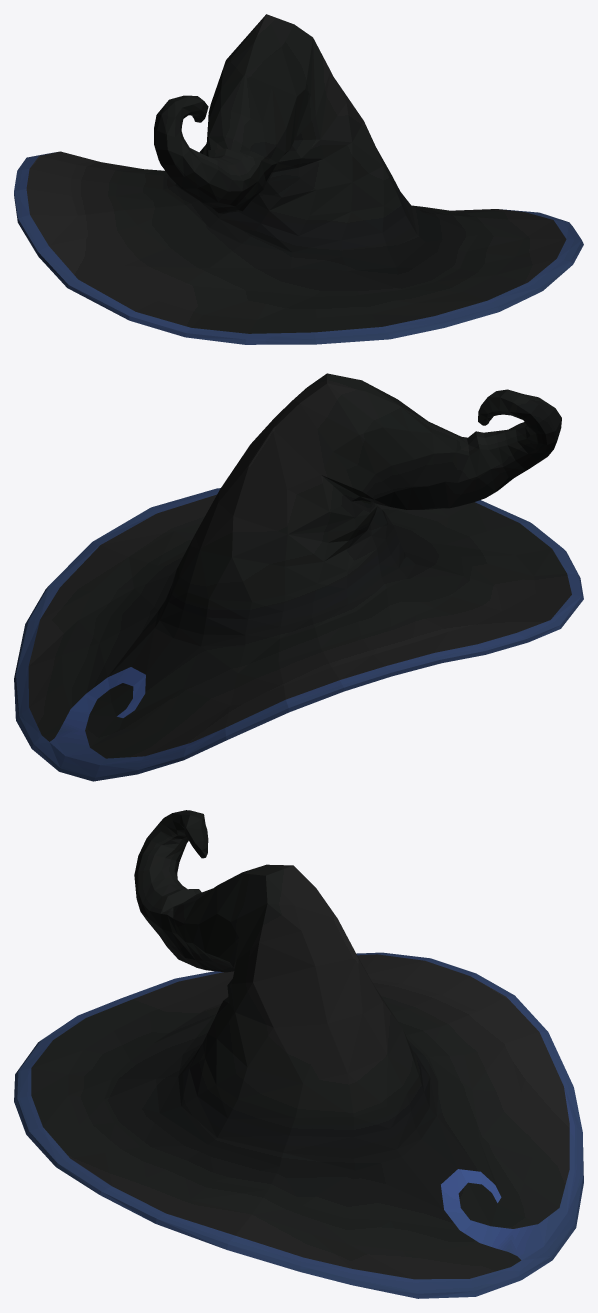
File: CharSkyKid_Hat_MischiefMagicHat.glb
3 renders of one model, top to bottom at view 1: azimuth 30°, elevation 25°; view 2: azimuth 150°, elevation 25°; view 3: azimuth 270°, elevation 25°, orthographic.
Visible parts, largest first — view 1: CharSkyKid_Hat_MischiefMagicHat; view 2: CharSkyKid_Hat_MischiefMagicHat; view 3: CharSkyKid_Hat_MischiefMagicHat.
Part boxes in pixels (<box>): CharSkyKid_Hat_MischiefMagicHat: <box>14,14,583,344</box>; CharSkyKid_Hat_MischiefMagicHat: <box>14,373,583,781</box>; CharSkyKid_Hat_MischiefMagicHat: <box>14,810,583,1298</box>.
Bounding box in the file's own units: 8.28 × 5.24 × 8.28.
Materials: 1 (1 with a texture image).
